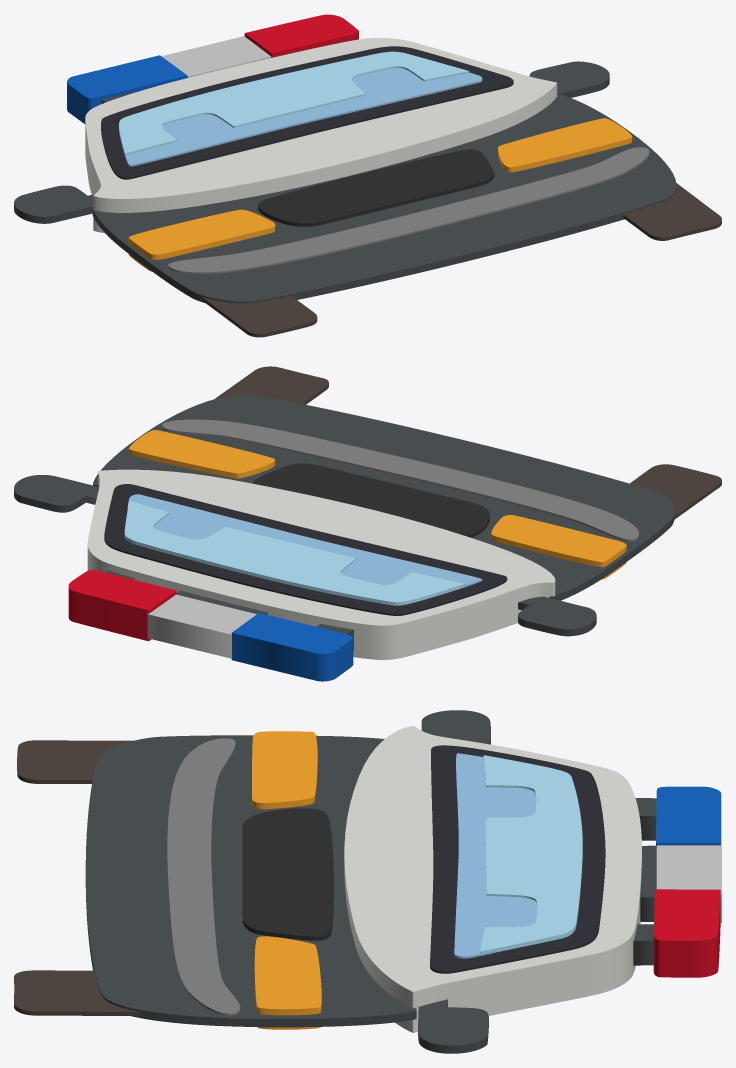
The model's file is emoji_u1f694.glb.
The picture shows the model from 3 angles, top to bottom: view 1: azimuth 30°, elevation 25°; view 2: azimuth 150°, elevation 25°; view 3: azimuth 270°, elevation 25°; orthographic projection. The views are drawn at different scales.
Visible parts, largest first — view 1: emoji_u1f694; view 2: emoji_u1f694; view 3: emoji_u1f694.
Boxes of the visible parts, box(x1,y1,x2,y2) form: emoji_u1f694: box(14, 14, 721, 337); emoji_u1f694: box(14, 366, 721, 681); emoji_u1f694: box(14, 710, 721, 1053).
Size of the model in its own units: 0.035 by 0.0026 by 0.0313.
